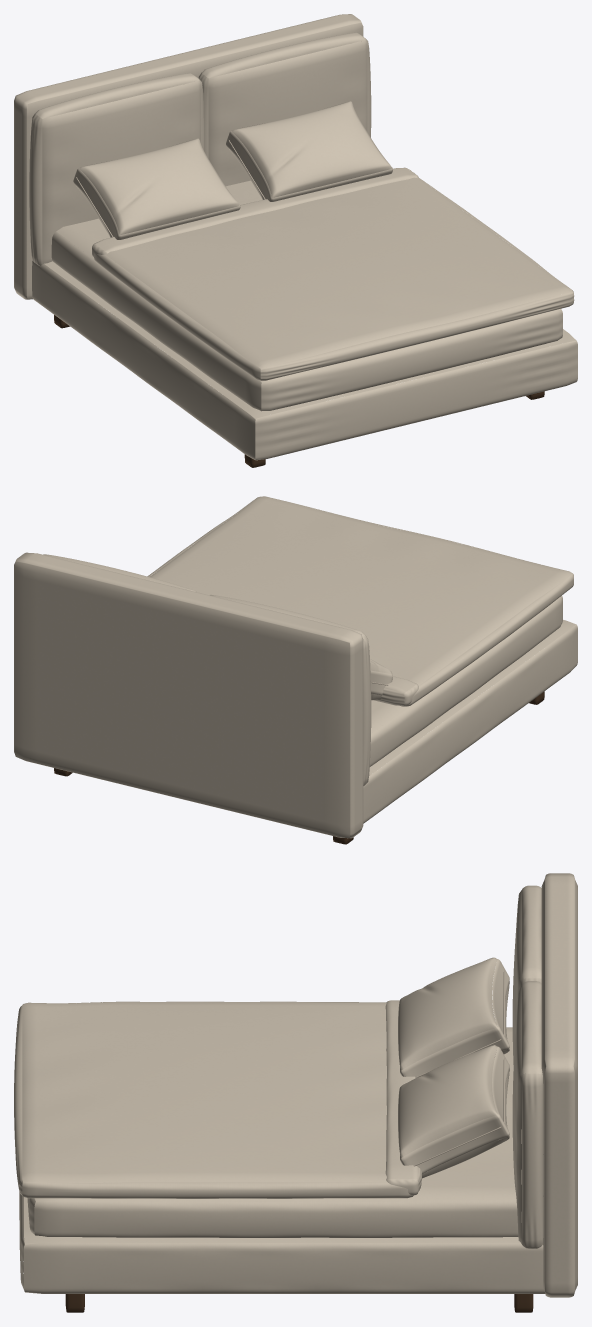
Rendered from bed_sand_high.glb.
3 renders of one model, top to bottom at view 1: azimuth 30°, elevation 25°; view 2: azimuth 150°, elevation 25°; view 3: azimuth 270°, elevation 25°, orthographic. The views are drawn at different scales.
Visible parts, largest first — view 1: soft_linen_duvet, upholstered_bed_base, mattress, padded_headboard_-1, padded_headboard_1, loose_pillow_1, loose_pillow_2, headboard_frame, folded_duvet_edge; view 2: headboard_frame, soft_linen_duvet, upholstered_bed_base, mattress, padded_headboard_-1, folded_duvet_edge, loose_pillow_1, padded_headboard_1; view 3: soft_linen_duvet, upholstered_bed_base, mattress, headboard_frame, loose_pillow_2, loose_pillow_1, padded_headboard_1, folded_duvet_edge, padded_headboard_-1.
Boxes of the visible parts, x1,y1,x2,y2 form: soft_linen_duvet: [94, 177, 574, 380]; upholstered_bed_base: [32, 261, 577, 460]; mattress: [51, 180, 562, 411]; padded_headboard_-1: [29, 73, 203, 265]; padded_headboard_1: [198, 32, 371, 186]; loose_pillow_1: [73, 138, 240, 239]; loose_pillow_2: [226, 101, 392, 201]; headboard_frame: [14, 14, 363, 299]; folded_duvet_edge: [92, 167, 418, 256]; headboard_frame: [14, 552, 363, 838]; soft_linen_duvet: [147, 496, 573, 706]; upholstered_bed_base: [363, 620, 577, 823]; mattress: [369, 595, 562, 766]; padded_headboard_-1: [210, 595, 371, 785]; folded_duvet_edge: [374, 676, 418, 705]; loose_pillow_1: [370, 659, 392, 700]; padded_headboard_1: [43, 554, 196, 592]; soft_linen_duvet: [14, 1001, 413, 1198]; upholstered_bed_base: [19, 1191, 545, 1293]; mattress: [27, 1027, 521, 1237]; headboard_frame: [541, 873, 577, 1297]; loose_pillow_2: [398, 1045, 509, 1178]; loose_pillow_1: [398, 957, 509, 1076]; padded_headboard_1: [512, 981, 543, 1248]; folded_duvet_edge: [385, 1000, 421, 1195]; padded_headboard_-1: [512, 885, 541, 1100].
Size of the model in its own units: 1.8 by 1.13 by 2.2.
Materials: 3 (1 with a texture image).
